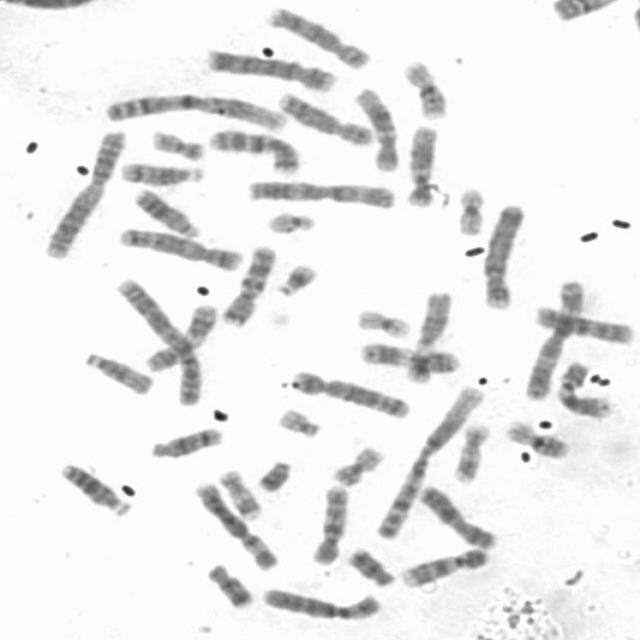A1: (371, 380, 489, 542), (101, 86, 292, 132)
A2: (112, 272, 209, 407), (38, 125, 128, 260)
A3: (519, 275, 587, 400), (241, 173, 401, 210)
B4: (199, 43, 339, 92), (476, 196, 530, 312)
B5: (285, 364, 413, 420), (113, 222, 246, 272)
C10: (530, 300, 638, 347), (305, 479, 352, 567)
C11: (140, 299, 221, 374), (354, 336, 462, 375)
C12: (349, 81, 404, 172), (400, 120, 441, 208)
C6: (187, 476, 282, 572), (258, 582, 386, 622)
C7: (215, 238, 279, 328), (202, 123, 302, 176)
C8: (262, 1, 374, 70), (271, 86, 375, 147)
C9: (395, 542, 492, 589), (551, 354, 616, 420)
D13: (54, 457, 136, 517), (128, 182, 203, 240)
D14: (144, 422, 226, 461), (114, 156, 207, 187)
D15: (80, 346, 158, 396), (412, 286, 455, 351)
E16: (398, 54, 452, 120), (500, 415, 572, 460)
E17: (447, 417, 492, 485), (214, 464, 266, 521)
E18: (200, 557, 257, 610), (342, 542, 398, 588)
F19: (351, 303, 414, 340), (450, 181, 489, 237)
F20: (325, 440, 388, 487), (146, 125, 208, 162)
G21: (270, 257, 321, 297), (406, 346, 435, 386)
G22: (272, 402, 324, 440), (260, 206, 320, 236)
X: (413, 480, 501, 550)
Y: (252, 454, 296, 494)
